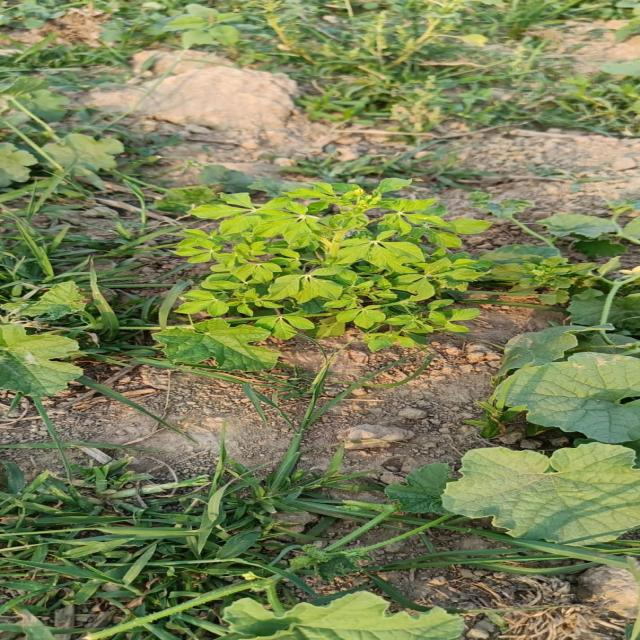plant: (177, 179, 488, 349)
